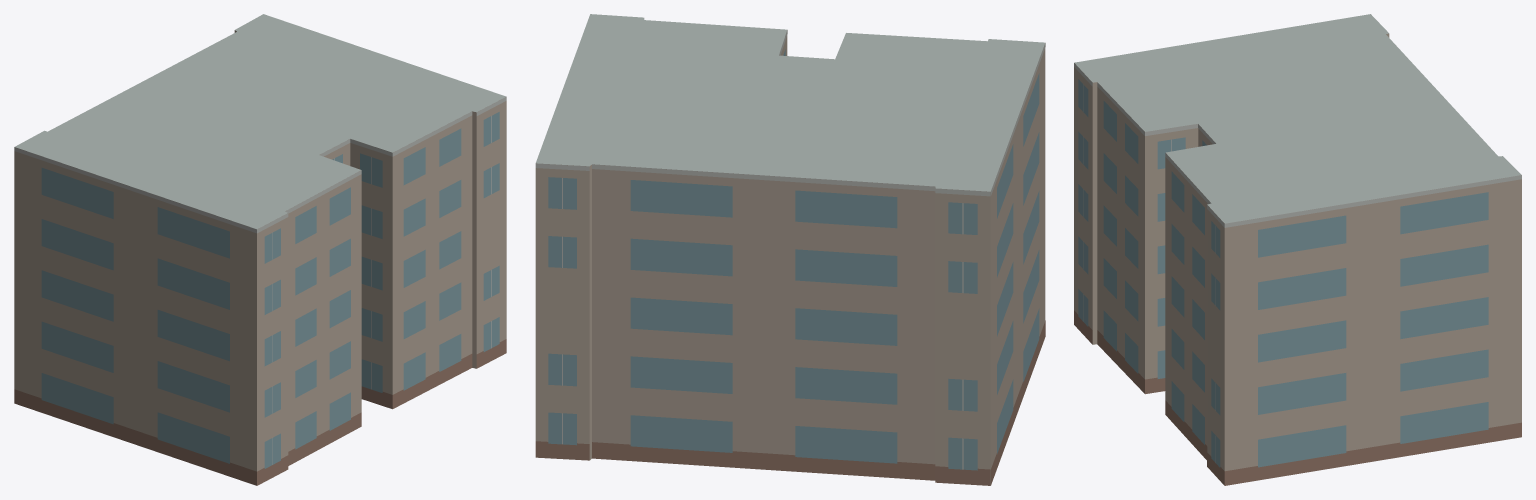
The model's file is survey-upis-32593400.glb.
The picture shows the model from 3 angles, left to right: view 1: azimuth 30°, elevation 25°; view 2: azimuth 150°, elevation 25°; view 3: azimuth 270°, elevation 25°; orthographic projection. The views are drawn at different scales.
Parts seen in each view (by area): view 1: survey-upis-32593400.tmp; view 2: survey-upis-32593400.tmp; view 3: survey-upis-32593400.tmp.
Part boxes in pixels (left/top/right/bottom): survey-upis-32593400.tmp: left=14, top=14, right=506, bottom=485; survey-upis-32593400.tmp: left=535, top=14, right=1045, bottom=485; survey-upis-32593400.tmp: left=1074, top=14, right=1521, bottom=485.
Bounding box in the file's own units: 26.18 × 15.25 × 23.61.
